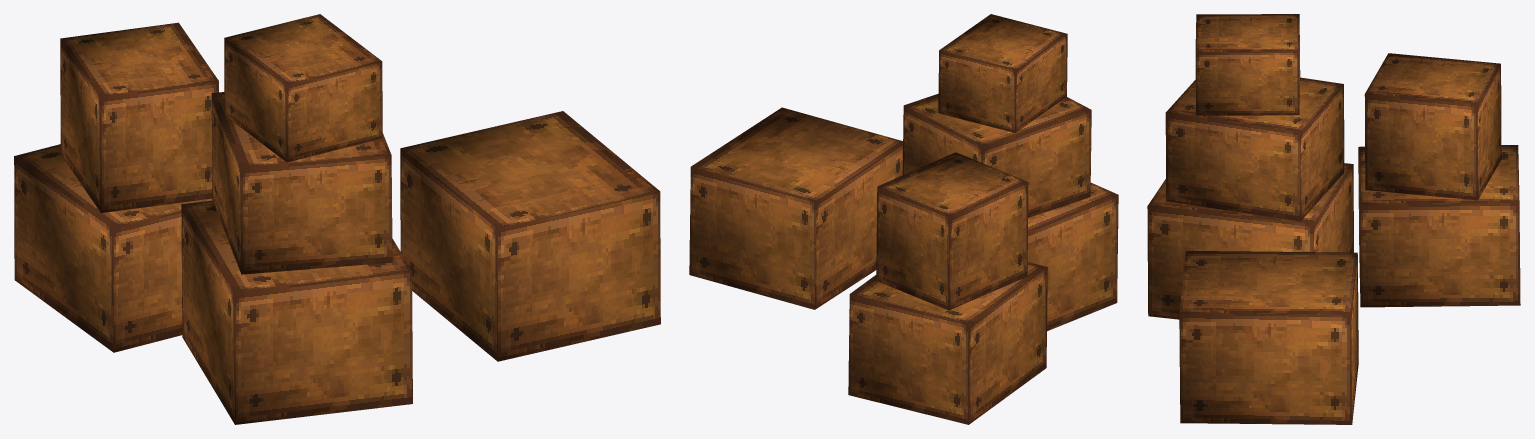
The model's file is deadminecargoboxes.obj.
3 views of the same model, side by side, from view 1: azimuth 30°, elevation 25°; view 2: azimuth 150°, elevation 25°; view 3: azimuth 270°, elevation 25° (orthographic). The views are drawn at different scales.
Visible parts, largest first — view 1: deadminecargoboxes; view 2: deadminecargoboxes; view 3: deadminecargoboxes.
Boxes of the visible parts, x1,y1,x2,y2 form: deadminecargoboxes: [14, 14, 660, 424]; deadminecargoboxes: [689, 14, 1118, 424]; deadminecargoboxes: [1147, 14, 1520, 424].
Size of the model in its own units: 2.57 by 1.78 by 2.26.
Materials: 1 (1 with a texture image).
